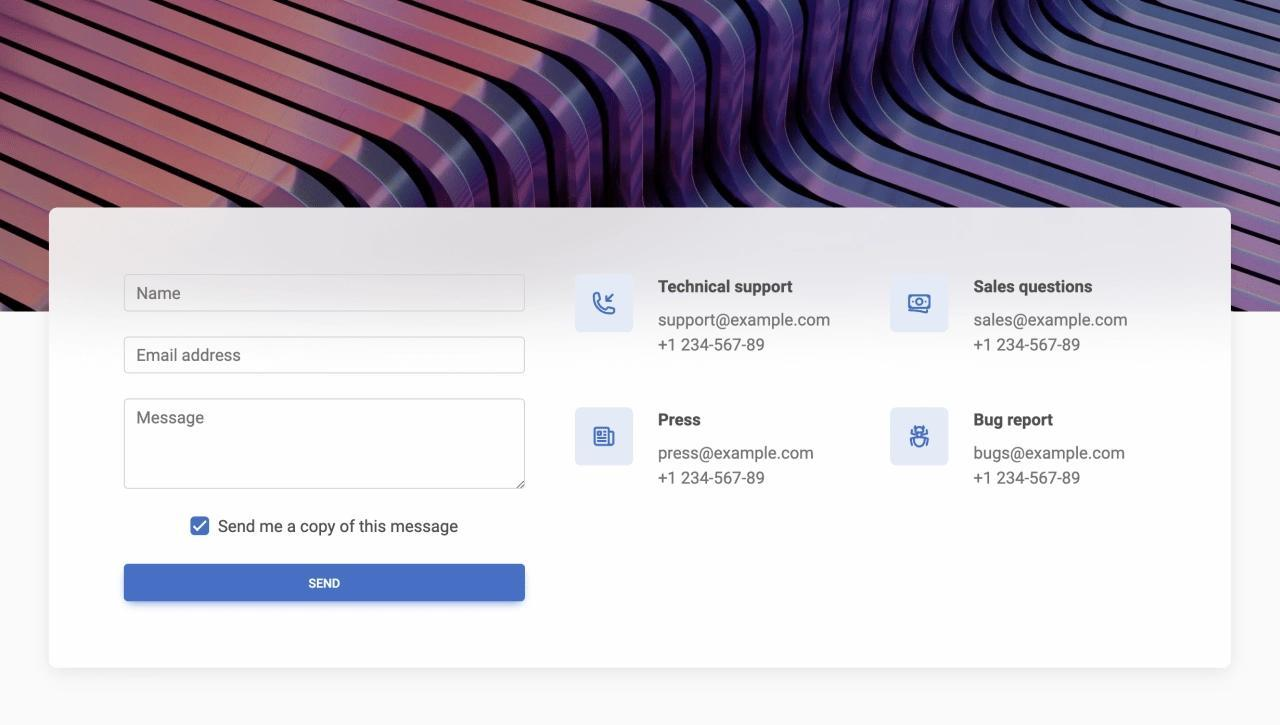button: (122, 565, 527, 603)
checkbox: (191, 516, 211, 536)
icon: (577, 272, 635, 335), (892, 273, 950, 334), (573, 409, 633, 463), (892, 410, 949, 465)
input: (126, 340, 526, 376), (124, 278, 527, 311)
label: (217, 515, 467, 544)
